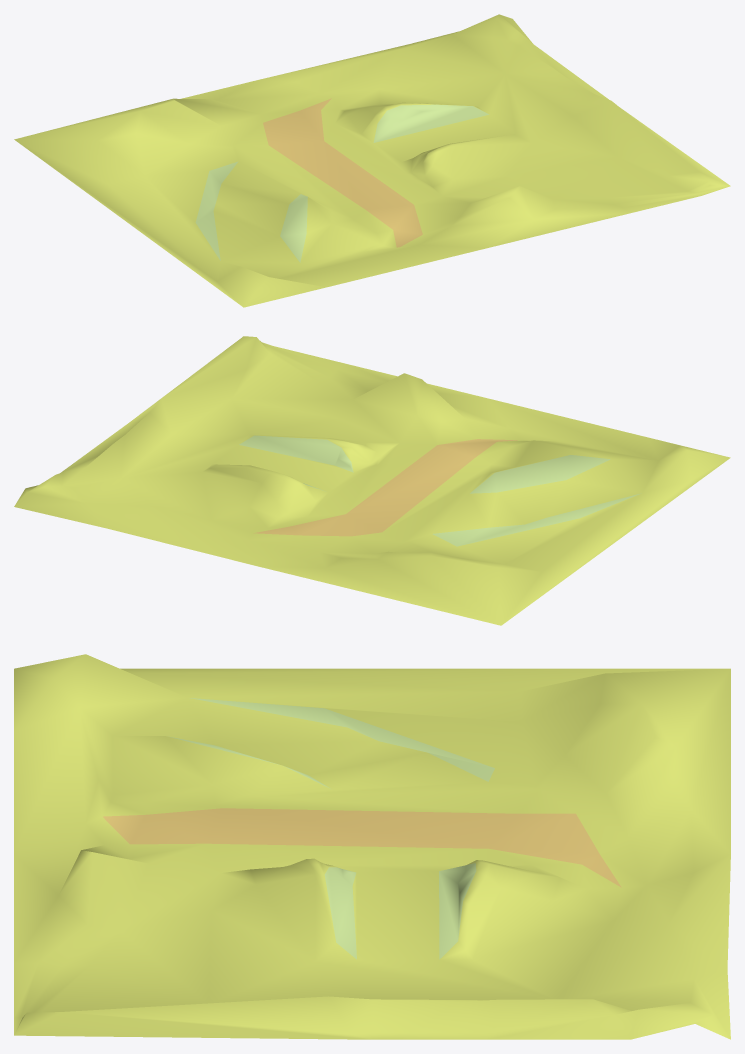
The model's file is ground3.fbx.
3 views of the same model, one above another, from view 1: azimuth 30°, elevation 25°; view 2: azimuth 150°, elevation 25°; view 3: azimuth 270°, elevation 25° (orthographic). The views are drawn at different scales.
Parts seen in each view (by area): view 1: terraun; view 2: terraun; view 3: terraun.
Boxes of the visible parts, x1,y1,x2,y2 form: terraun: (14, 14, 730, 307); terraun: (14, 336, 730, 625); terraun: (14, 654, 730, 1039).
Bounding box in the file's own units: 82785 × 5931 × 67601.
